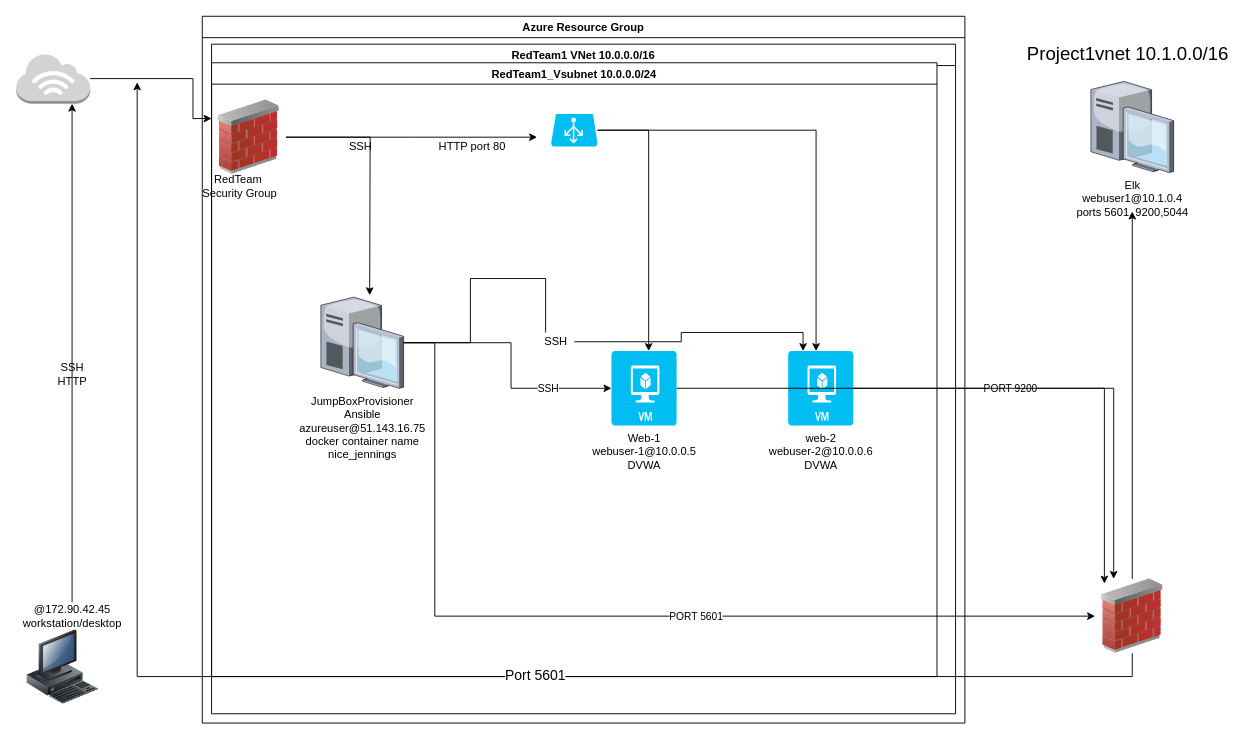
Some shapes in this 1251 by 739 pixel diagram are drawn without their labels. Each missing label, with the centre of its shape:
"ELK Security Group" belongs at (x=1132, y=615).
"Internet" belongs at (x=52, y=78).
"redteamloadbalancer @20.83.250.228" belongs at (x=574, y=129).
